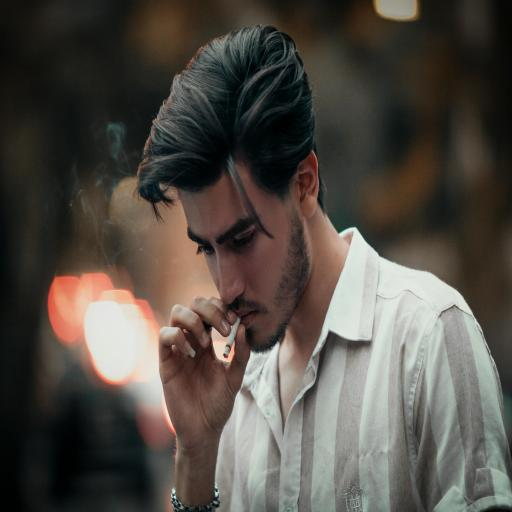terdeteksi merokok: (188, 192, 278, 387)
